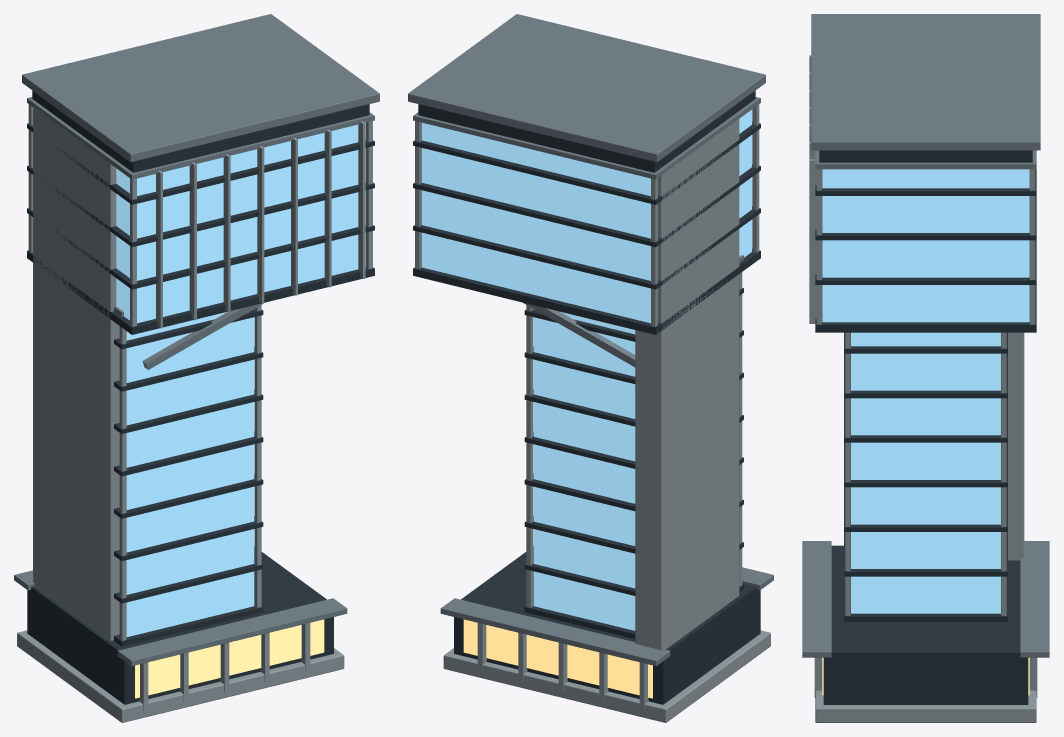
The model's file is vrx_city_exchange_a_LOD0.fbx.
3 renders of one model, left to right at view 1: azimuth 30°, elevation 25°; view 2: azimuth 150°, elevation 25°; view 3: azimuth 270°, elevation 25°, orthographic. The views are drawn at different scales.
Parts seen in each view (by area): view 1: vrx_city_exchange_a_LOD0; view 2: vrx_city_exchange_a_LOD0; view 3: vrx_city_exchange_a_LOD0.
Part boxes in pixels (x1,y1,x2,y2): vrx_city_exchange_a_LOD0: (14, 14, 379, 722); vrx_city_exchange_a_LOD0: (408, 14, 773, 722); vrx_city_exchange_a_LOD0: (802, 14, 1049, 722).
Size of the model in its own units: 38 by 80.6 by 30.2.
